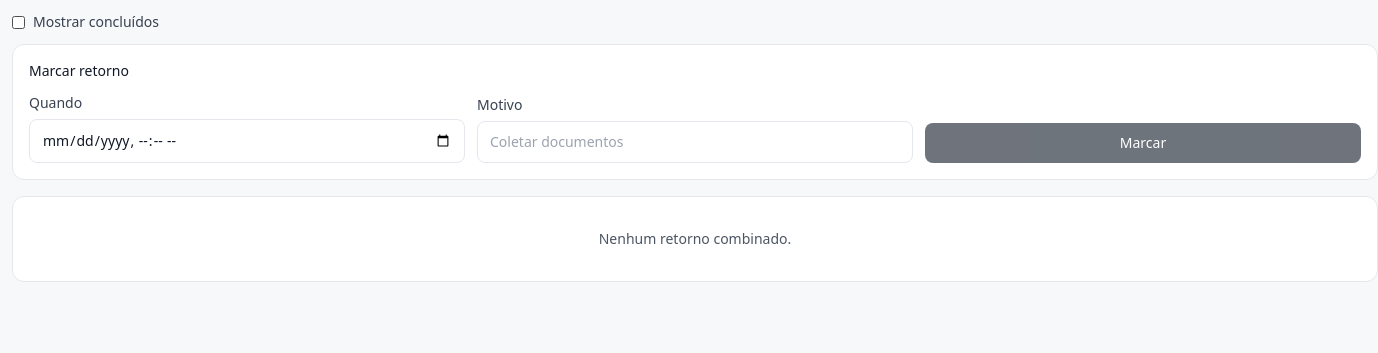
Test: agenda de retornos › duplicata do servidor aparece como o que é
Type "2026-08-20T15:00" into the field labelled "Quando" at (247, 141), box x1=29 y1=119 x2=465 y2=163
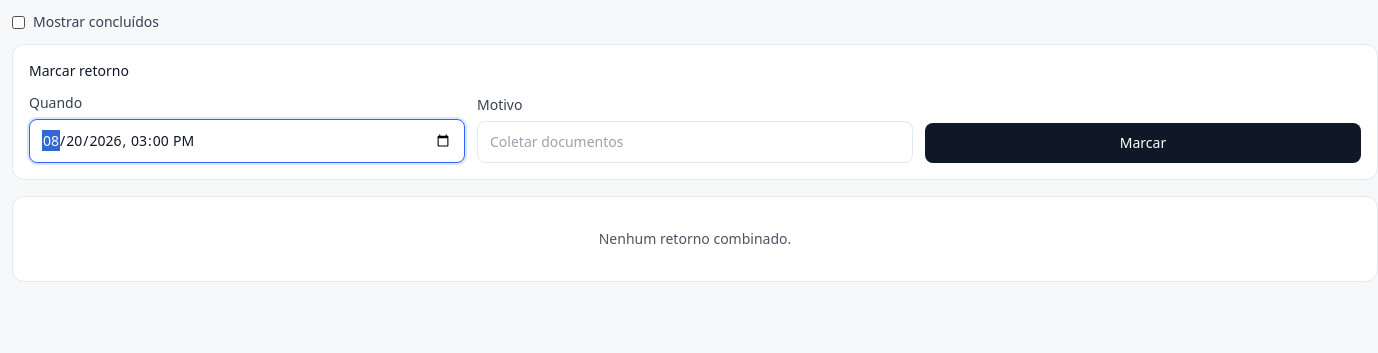
Click the button "Marcar" at (1143, 143), box x1=925 y1=123 x2=1361 y2=163
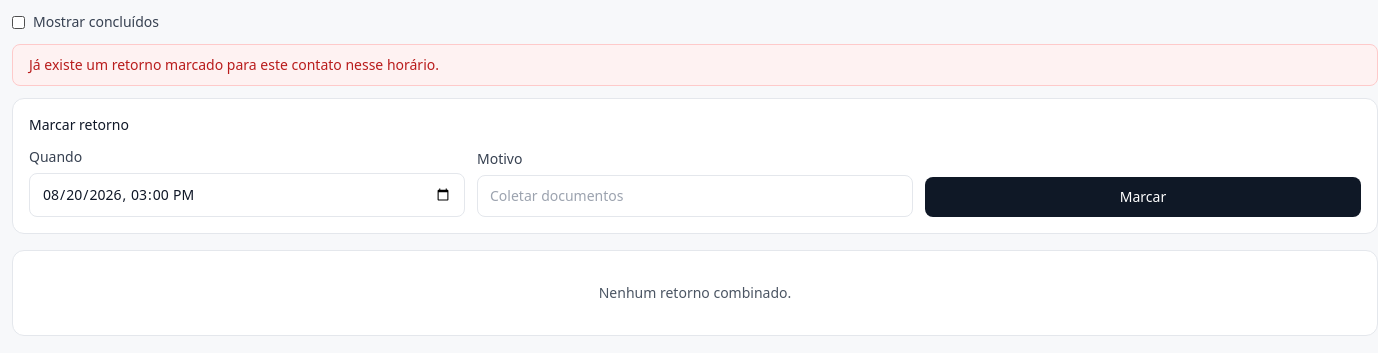
expect the message shows "Já existe um retorno marcado": met, box x1=29 y1=55 x2=439 y2=74
